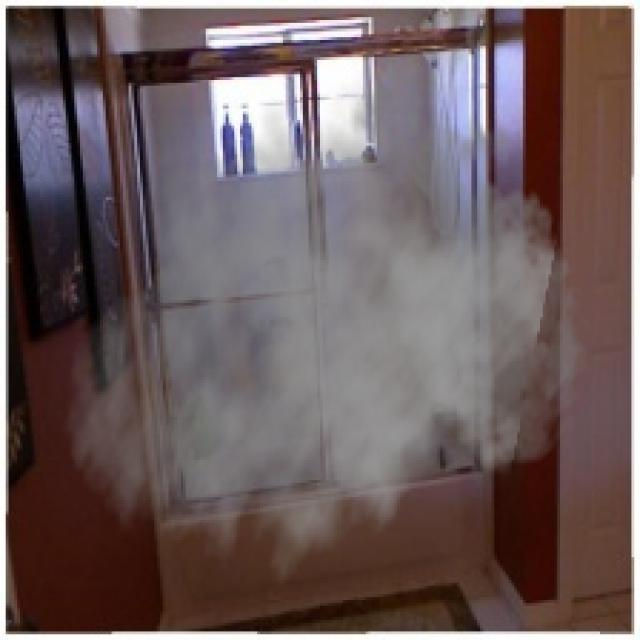Smoke: (62, 63, 594, 606)
